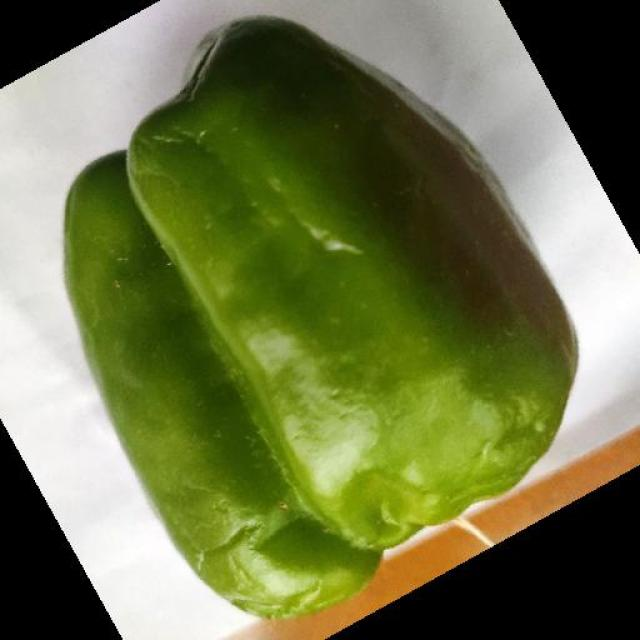Fresh_Capsicum: (82, 163, 567, 574)
